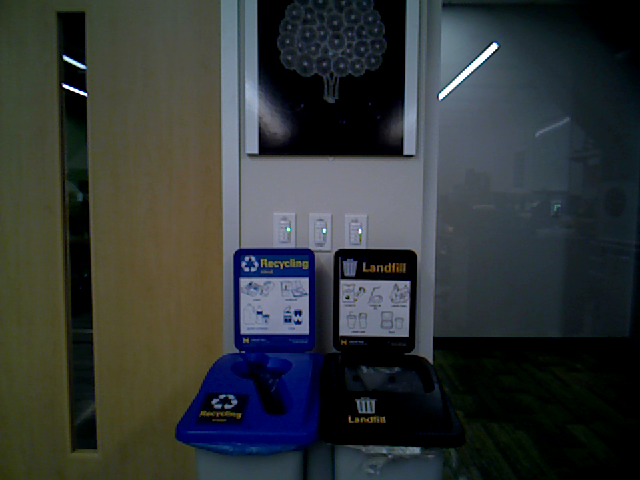painting1: (242, 1, 419, 155)
